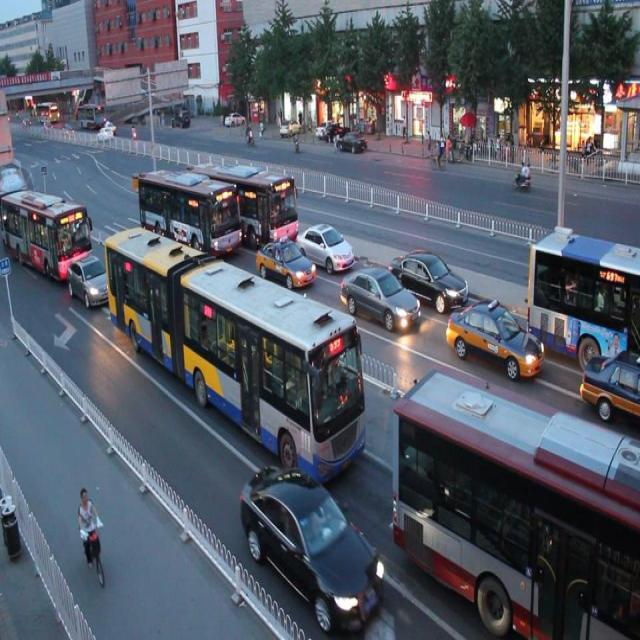car: (242, 461, 382, 628), (446, 294, 544, 382), (337, 258, 416, 331), (390, 243, 468, 309), (579, 345, 640, 417), (253, 230, 314, 289), (294, 214, 352, 273), (66, 250, 116, 308)
van: (102, 218, 366, 482), (395, 366, 640, 640), (526, 226, 640, 363), (136, 160, 240, 262), (191, 153, 298, 248), (1, 182, 90, 272)
